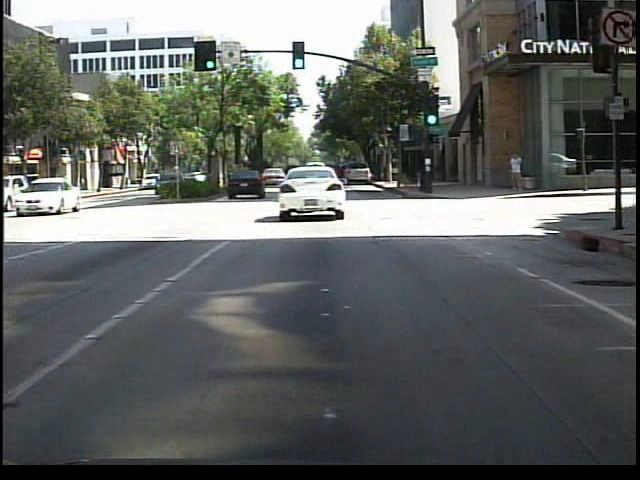person: (506, 151, 526, 197)
